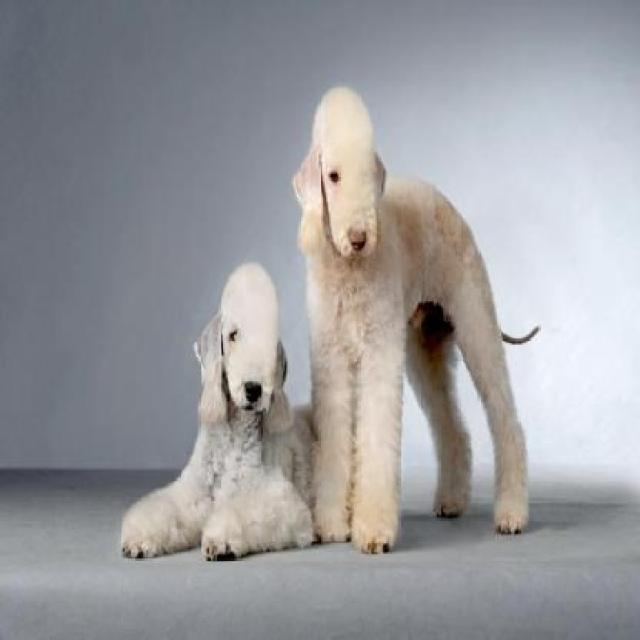animals: (282, 71, 561, 554), (136, 213, 309, 589)
